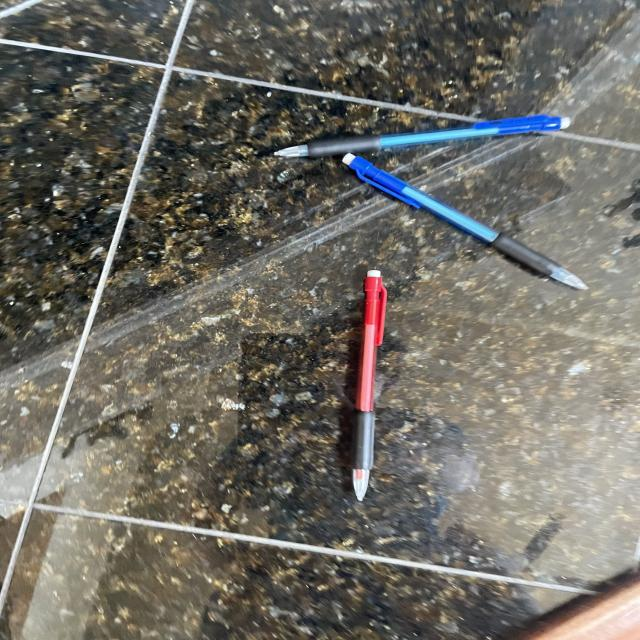mechanical-pencils: (347, 154, 594, 295), (273, 116, 574, 161)
